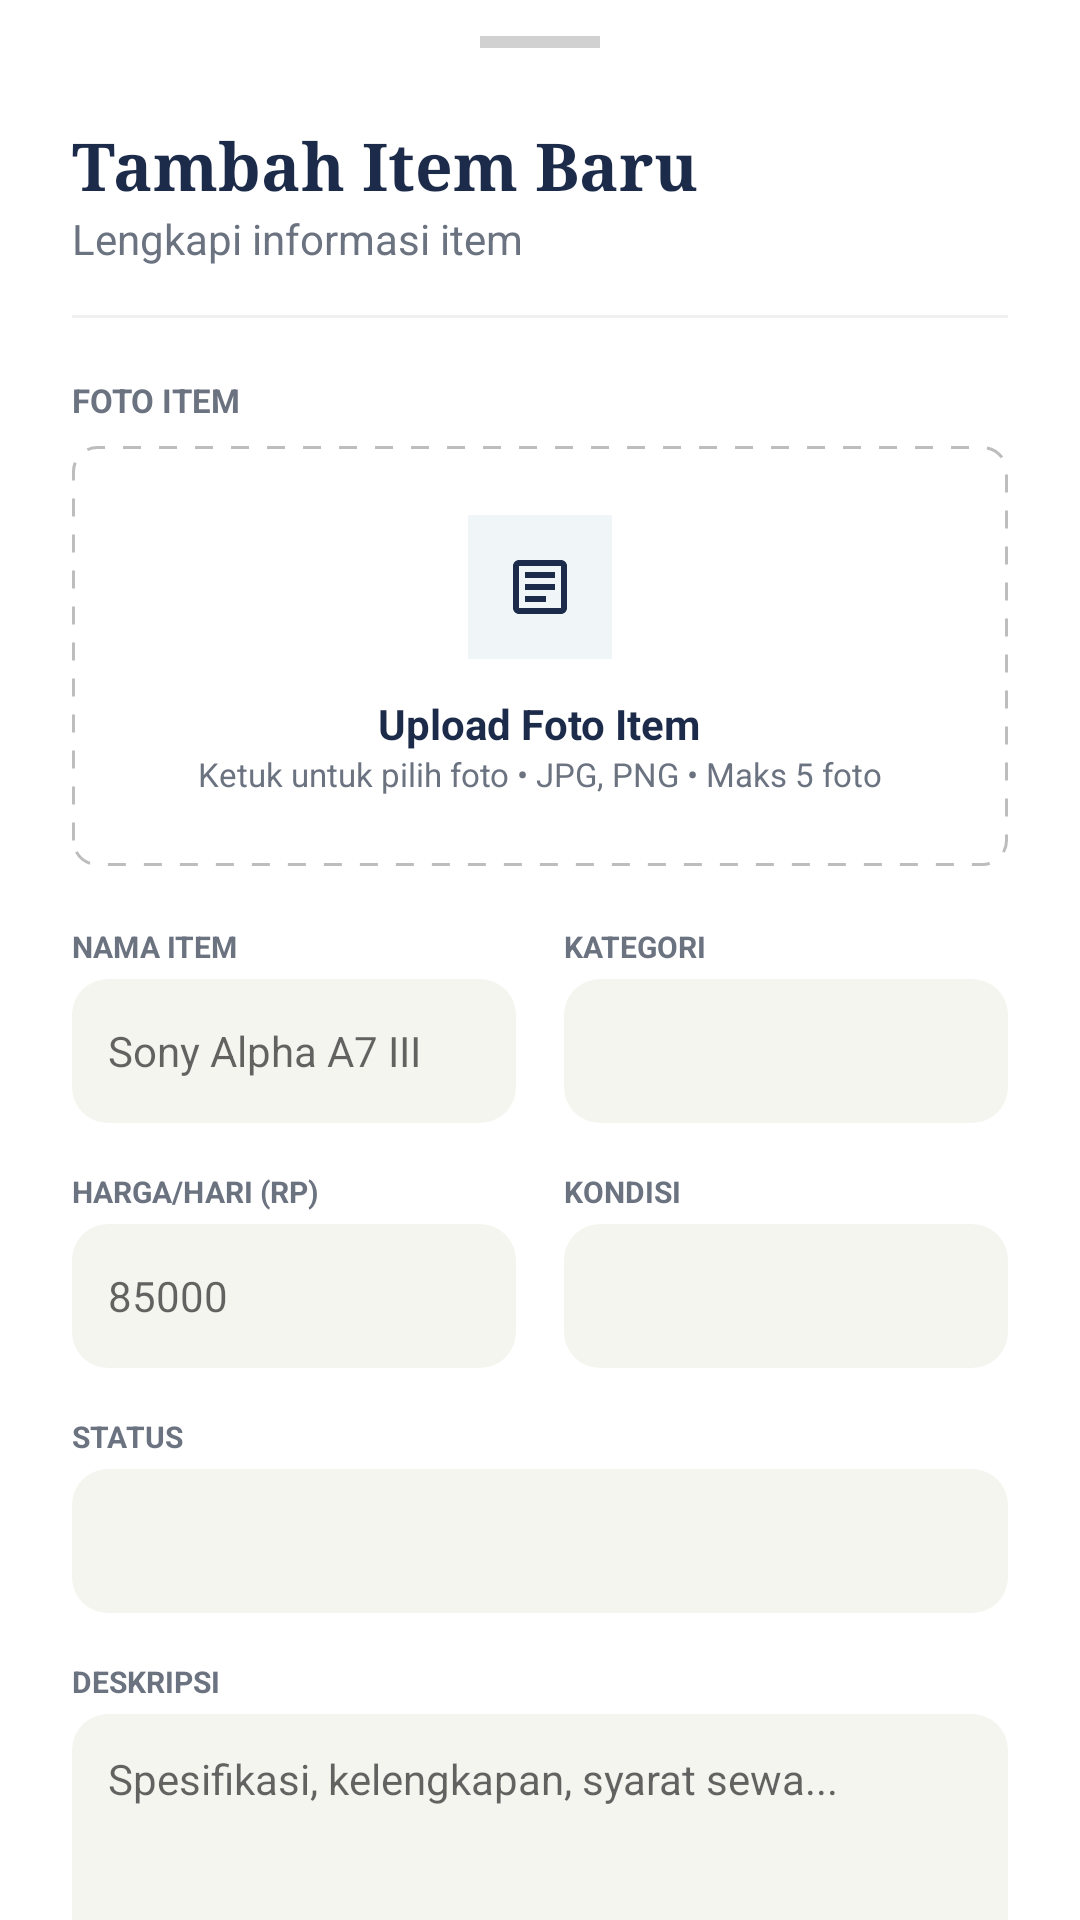

Icon bounding boxes for this 1080x1920 phone screenshot, format bbox(x1, y1, x2, y2):
items: bbox(513, 560, 567, 614)
